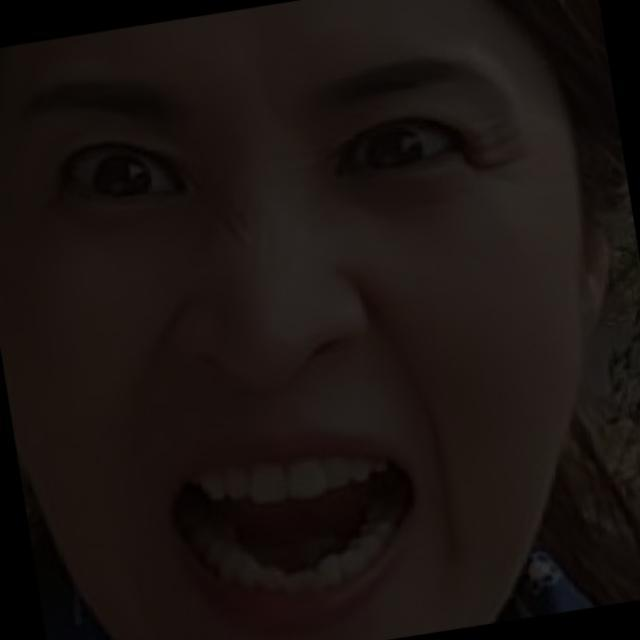Angry: (30, 39, 584, 640)
